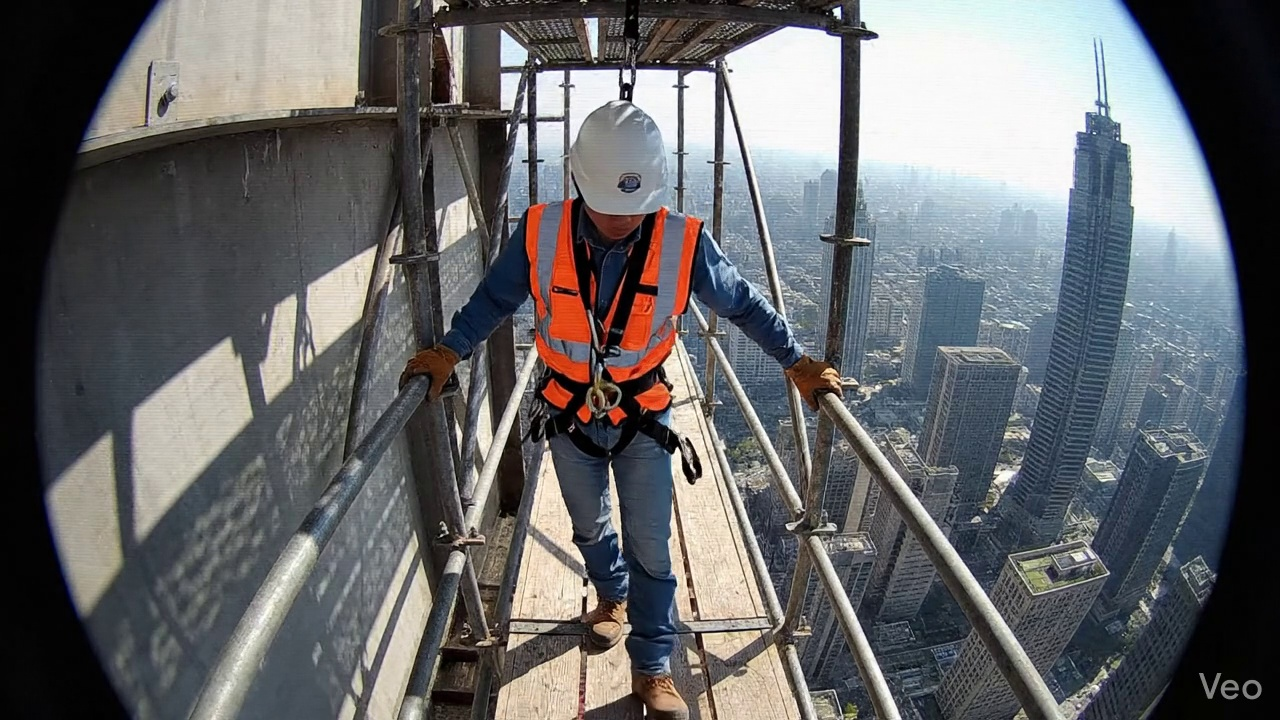person: (400, 100, 840, 719)
